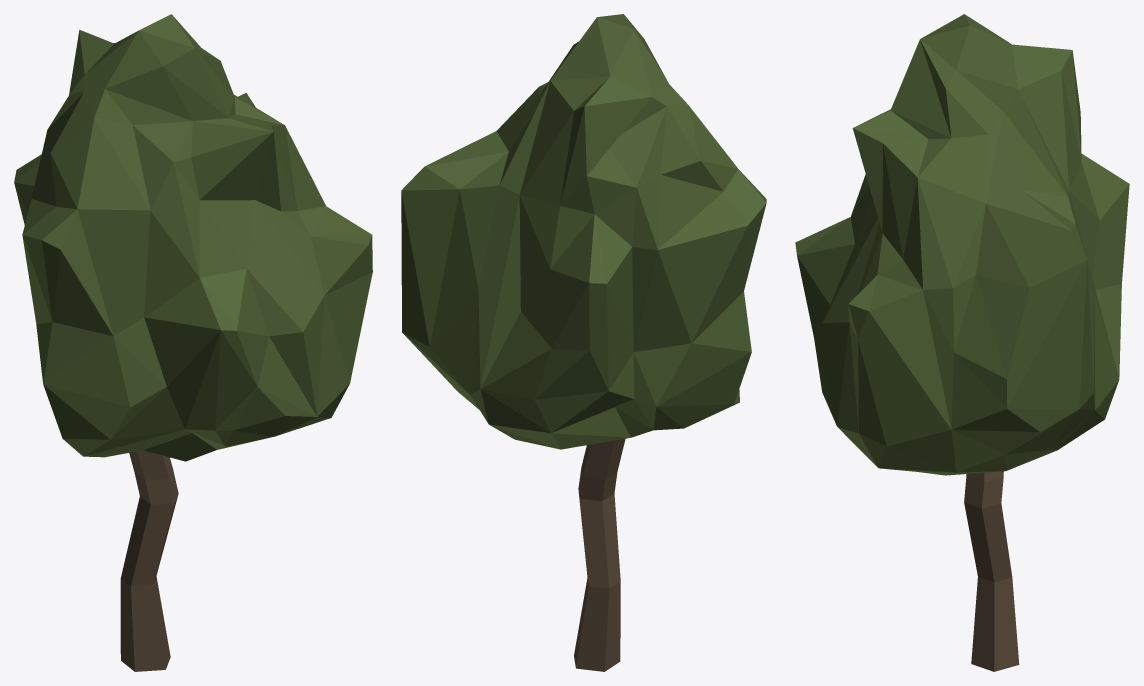
The model's file is tree_010.fbx.
3 views of the same model, side by side, from view 1: azimuth 30°, elevation 25°; view 2: azimuth 150°, elevation 25°; view 3: azimuth 270°, elevation 25° (orthographic). The views are drawn at different scales.
Parts seen in each view (by area): view 1: tree_010; view 2: tree_010; view 3: tree_010.
Part boxes in pixels (<box>): tree_010: <box>14,14,372,671</box>; tree_010: <box>401,14,766,671</box>; tree_010: <box>795,14,1129,671</box>.
Bounding box in the file's own units: 0.5007 × 0.9701 × 0.4586.
1 material, 1 textured.
